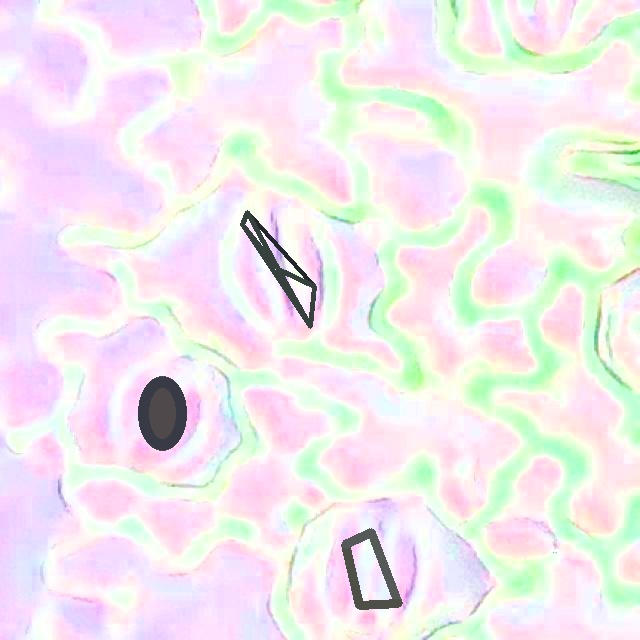close: (138, 376, 186, 450)
open: (241, 210, 315, 328), (341, 528, 402, 609)
